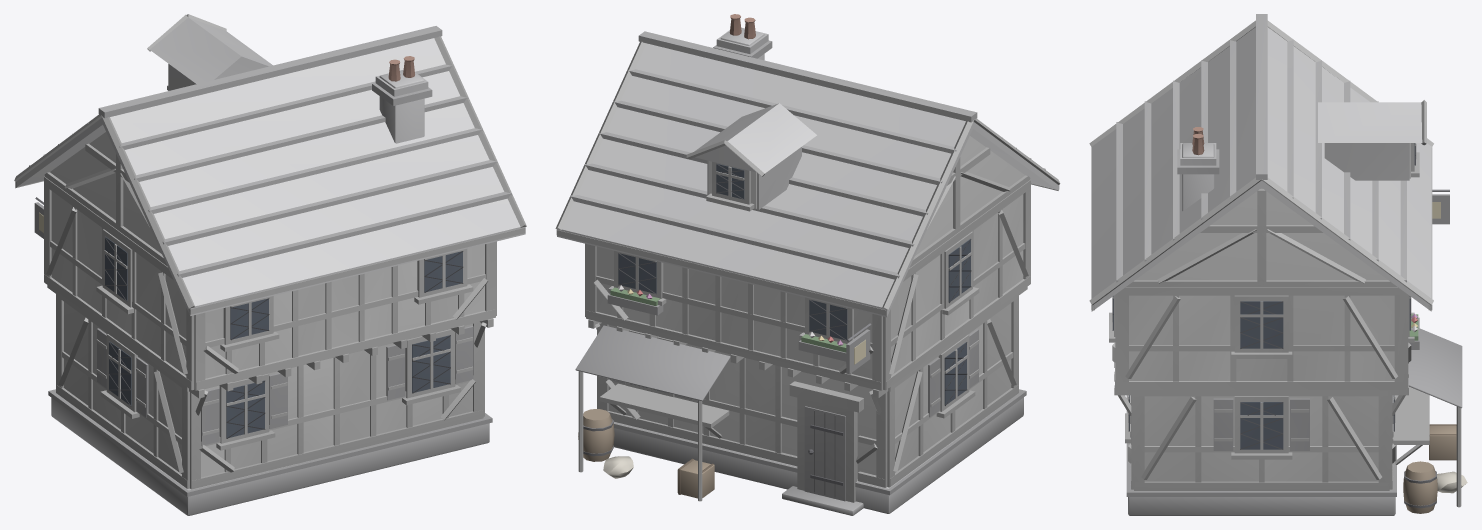
File: shop_pale.gltf
3 views of the same model, side by side, from view 1: azimuth 30°, elevation 25°; view 2: azimuth 150°, elevation 25°; view 3: azimuth 270°, elevation 25° (orthographic). The views are drawn at different scales.
Visible parts, largest first — view 1: Body; view 2: Body; view 3: Body.
Part boxes in pixels (<box>): Body: <box>14,14,526,515</box>; Body: <box>555,14,1060,515</box>; Body: <box>1089,14,1467,515</box>.
Bounding box in the file's own units: 8.37 × 8.76 × 8.34.
